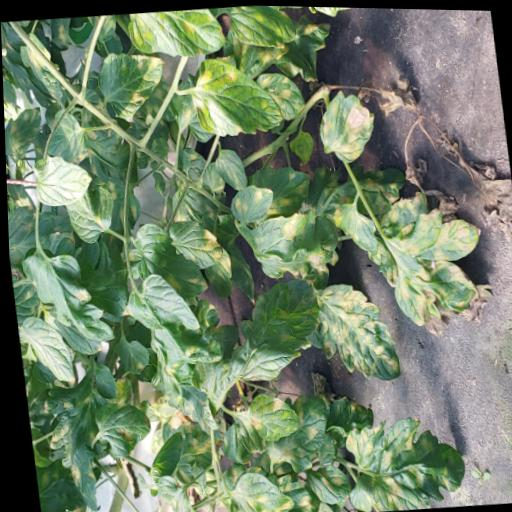Leaf Mold: (381, 200, 494, 340), (336, 409, 466, 512), (217, 275, 323, 382), (37, 365, 105, 512), (17, 245, 113, 347), (312, 277, 399, 384), (183, 50, 283, 139), (232, 8, 337, 88), (143, 331, 218, 434), (246, 206, 341, 279), (129, 218, 206, 301), (255, 390, 331, 474), (92, 45, 170, 120), (124, 5, 226, 62), (313, 82, 380, 163), (119, 268, 198, 335), (333, 157, 407, 216), (244, 158, 313, 218), (89, 397, 151, 459), (60, 178, 116, 245), (29, 150, 92, 208), (149, 321, 222, 367), (16, 29, 62, 101), (226, 4, 296, 50), (166, 216, 222, 270), (226, 469, 293, 512), (242, 385, 293, 441), (254, 67, 305, 122), (329, 198, 377, 256), (375, 187, 429, 236), (42, 106, 85, 160), (3, 105, 44, 161), (300, 459, 349, 505), (226, 181, 274, 223), (198, 242, 233, 299), (272, 469, 317, 512), (106, 333, 148, 376), (151, 472, 193, 512), (211, 146, 246, 190), (216, 420, 249, 464), (197, 158, 224, 195)
